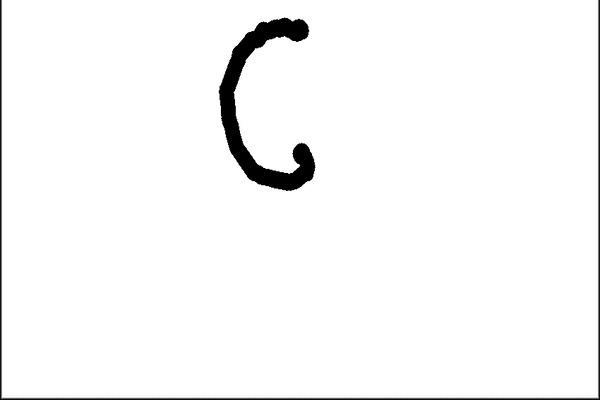C: (216, 11, 319, 193)
